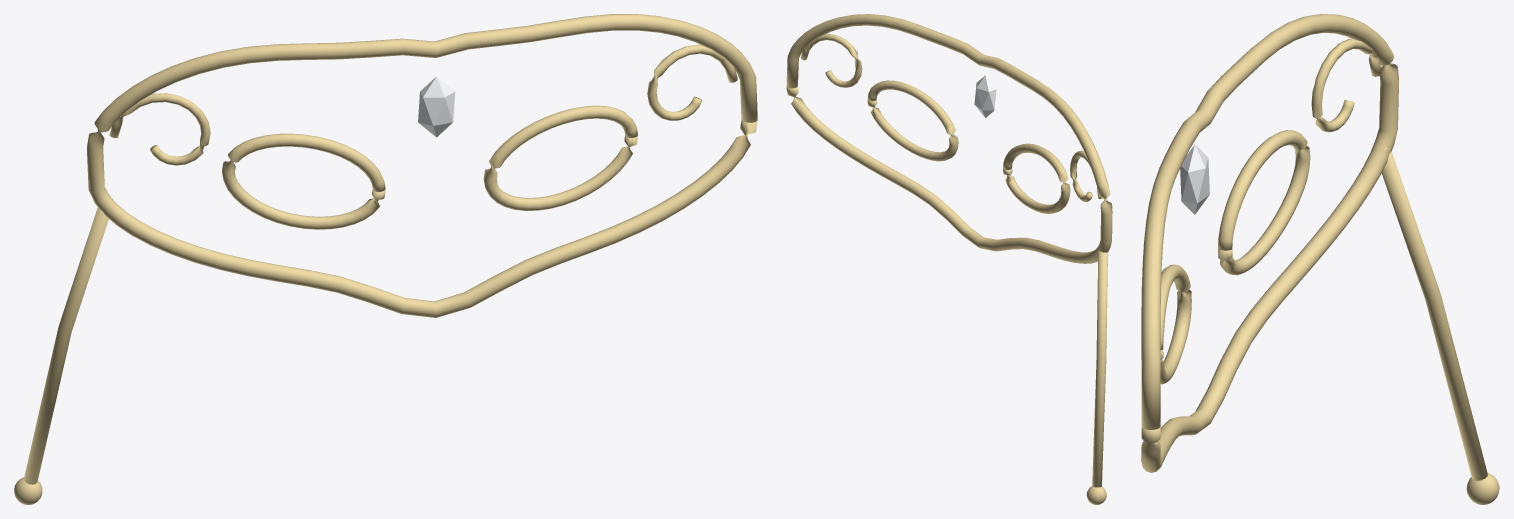
Rendered from Veneciano.glb.
3 renders of one model, left to right at view 1: azimuth 30°, elevation 25°; view 2: azimuth 150°, elevation 25°; view 3: azimuth 270°, elevation 25°, orthographic. The views are drawn at different scales.
Visible parts, largest first — view 1: Mascara_Gala_Editorial; view 2: Mascara_Gala_Editorial; view 3: Mascara_Gala_Editorial.
Boxes of the visible parts, x1,y1,x2,y2 form: Mascara_Gala_Editorial: (14,14,757,504); Mascara_Gala_Editorial: (786,14,1112,504); Mascara_Gala_Editorial: (1141,14,1499,504).
Size of the model in its own units: 1.15 by 0.8981 by 0.5199.
